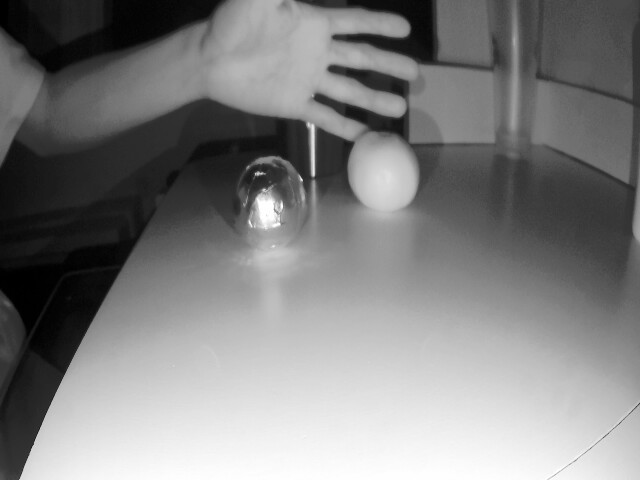silver: (236, 161, 308, 244)
